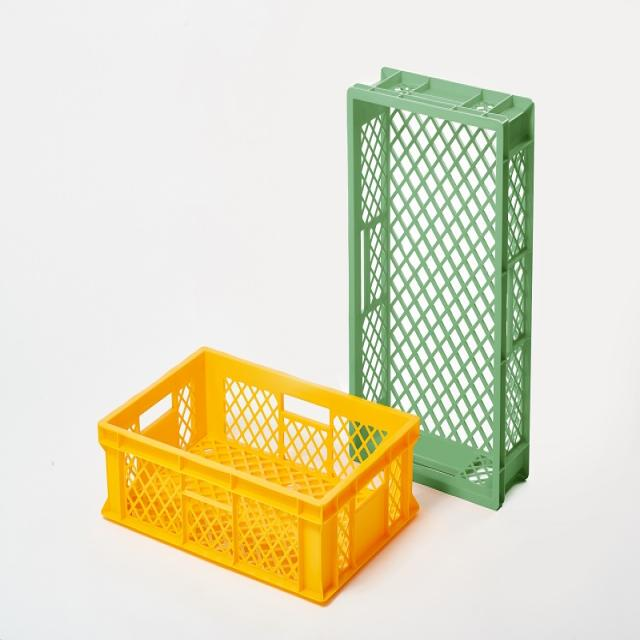basket: (67, 326, 446, 622), (342, 67, 536, 510)
